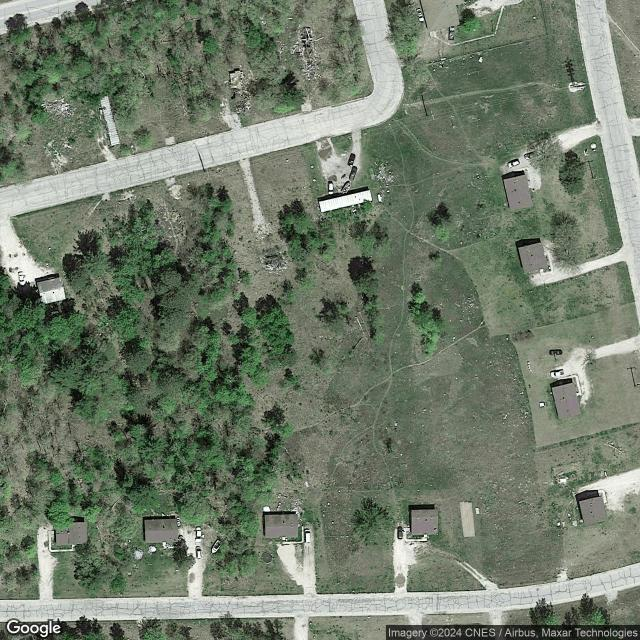Propane: (376, 193, 383, 204)
